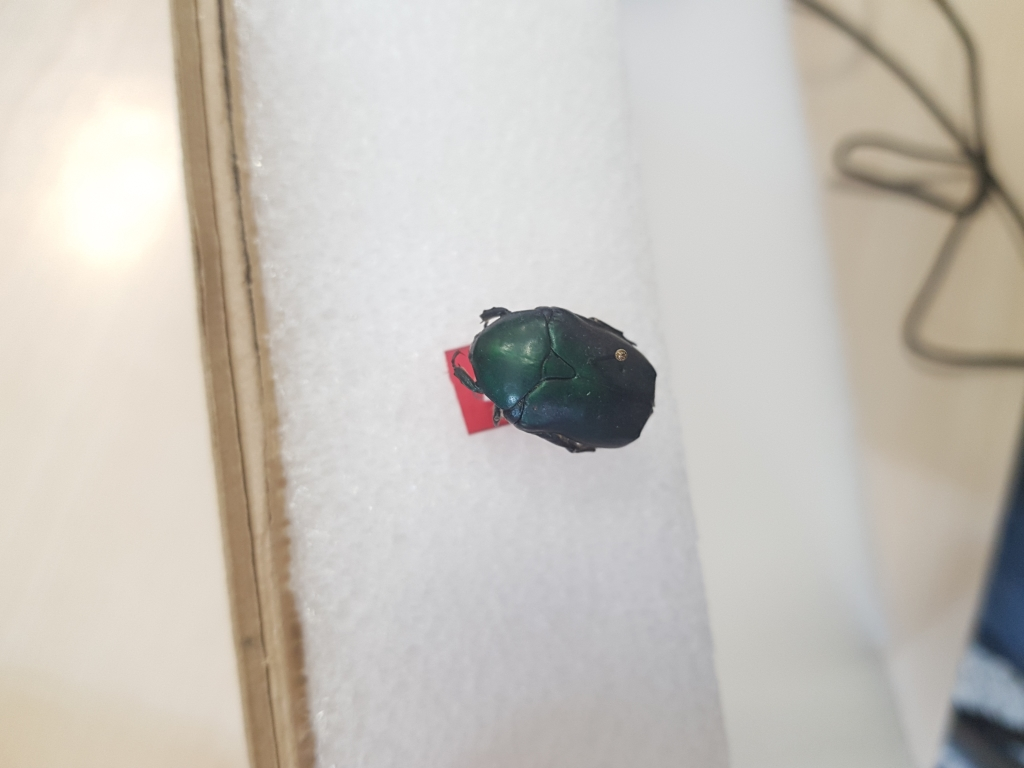Protaetia_afflicta: (443, 301, 654, 461)
